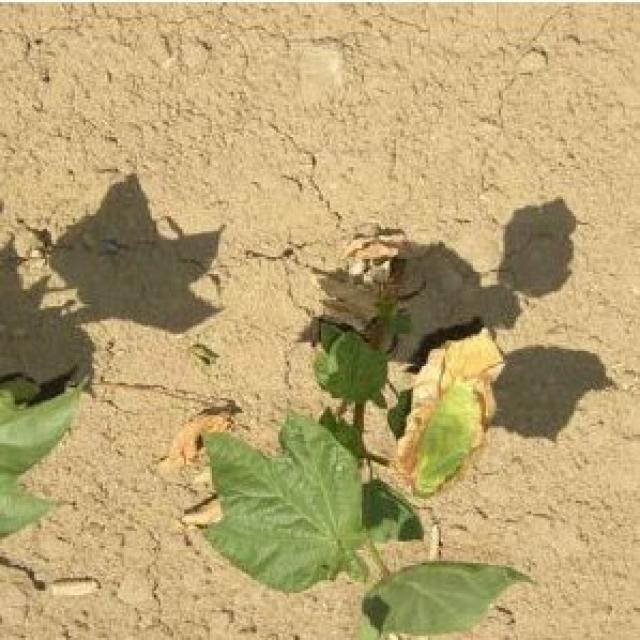Fusarium Wilt: (211, 285, 535, 640)
